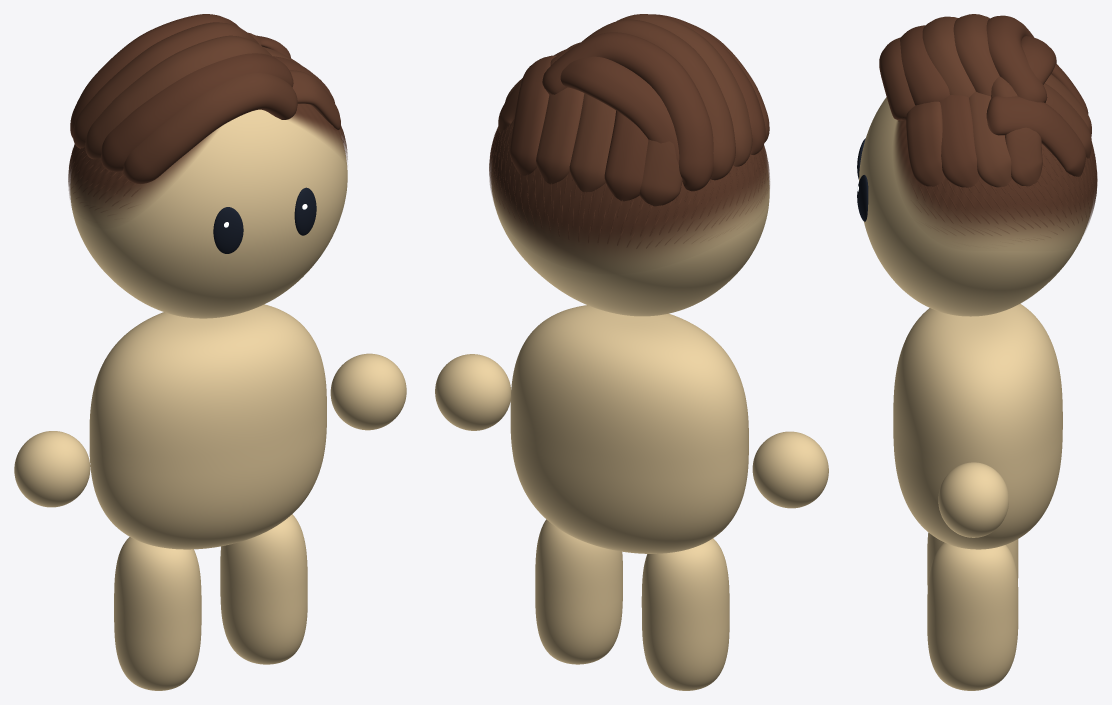
File: Taper-skin1.glb
3 views of the same model, side by side, from view 1: azimuth 30°, elevation 25°; view 2: azimuth 150°, elevation 25°; view 3: azimuth 270°, elevation 25° (orthographic). The views are drawn at different scales.
Parts seen in each view (by area): view 1: Skin / compact torso, Skin / soft oval head, Skin / leg -1, Skin / leg 1, Hair / Taper top 0, Hair / Taper short sides, Hair / Taper top 1, Hair / Taper top 2, Skin / hand 1, Skin / hand -1, Hair / Taper top 3, Hair / Taper top 4 (+4 smaller); view 2: Skin / compact torso, Hair / Taper short sides, Skin / soft oval head, Skin / leg -1, Skin / leg 1, Hair / Taper top 4, Hair / Taper rear bridge, Skin / hand -1, Skin / hand 1, Hair / Taper top 3, Hair / Taper fine direction, Hair / Taper top 2 (+6 smaller); view 3: Skin / compact torso, Skin / soft oval head, Hair / Taper short sides, Skin / leg 1, Skin / hand 1, Hair / Taper crown 4, Hair / Taper top 4, Hair / Taper short sweep 1, Hair / Taper short sweep 0, Hair / Taper top 3, Hair / Taper short sweep 2, Hair / Taper top 1 (+10 smaller).
Part boxes in pixels (left/top/right/bottom): Skin / compact torso: left=89, top=304, right=326, bottom=549; Skin / soft oval head: left=70, top=109, right=347, bottom=318; Skin / leg -1: left=114, top=537, right=201, bottom=690; Skin / leg 1: left=220, top=514, right=307, bottom=664; Hair / Taper top 0: left=123, top=73, right=297, bottom=184; Hair / Taper short sides: left=68, top=103, right=347, bottom=221; Hair / Taper top 1: left=101, top=53, right=293, bottom=171; Hair / Taper top 2: left=85, top=35, right=272, bottom=159; Skin / hand 1: left=330, top=353, right=406, bottom=430; Skin / hand -1: left=14, top=431, right=90, bottom=507; Hair / Taper top 3: left=73, top=22, right=259, bottom=148; Hair / Taper top 4: left=70, top=14, right=239, bottom=138; Skin / compact torso: left=510, top=305, right=748, bottom=553; Hair / Taper short sides: left=489, top=119, right=769, bottom=266; Skin / soft oval head: left=491, top=170, right=769, bottom=316; Skin / leg -1: left=641, top=538, right=729, bottom=690; Skin / leg 1: left=535, top=519, right=622, bottom=664; Hair / Taper top 4: left=542, top=32, right=713, bottom=191; Hair / Taper rear bridge: left=560, top=56, right=679, bottom=164; Skin / hand -1: left=752, top=431, right=828, bottom=508; Skin / hand 1: left=435, top=354, right=511, bottom=430; Hair / Taper top 3: left=582, top=19, right=735, bottom=180; Hair / Taper fine direction: left=489, top=124, right=769, bottom=248; Hair / Taper top 2: left=616, top=14, right=752, bottom=166; Skin / compact torso: left=893, top=303, right=1062, bottom=549; Skin / soft oval head: left=859, top=97, right=1091, bottom=316; Hair / Taper short sides: left=894, top=120, right=1097, bottom=243; Skin / leg 1: left=927, top=542, right=1018, bottom=690; Skin / hand 1: left=938, top=462, right=1008, bottom=537; Hair / Taper crown 4: left=986, top=96, right=1085, bottom=176; Hair / Taper top 4: left=986, top=15, right=1047, bottom=102; Hair / Taper short sweep 1: left=940, top=95, right=979, bottom=187; Hair / Taper short sweep 0: left=906, top=101, right=945, bottom=186; Hair / Taper top 3: left=953, top=14, right=999, bottom=96; Hair / Taper short sweep 2: left=969, top=91, right=1011, bottom=187; Hair / Taper top 1: left=900, top=25, right=949, bottom=105.
Bounding box in the file's own units: 1.49 × 2.4 × 0.8289.
